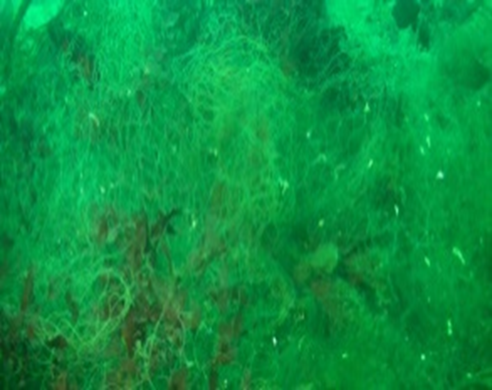fishing net: (1, 1, 484, 390)
